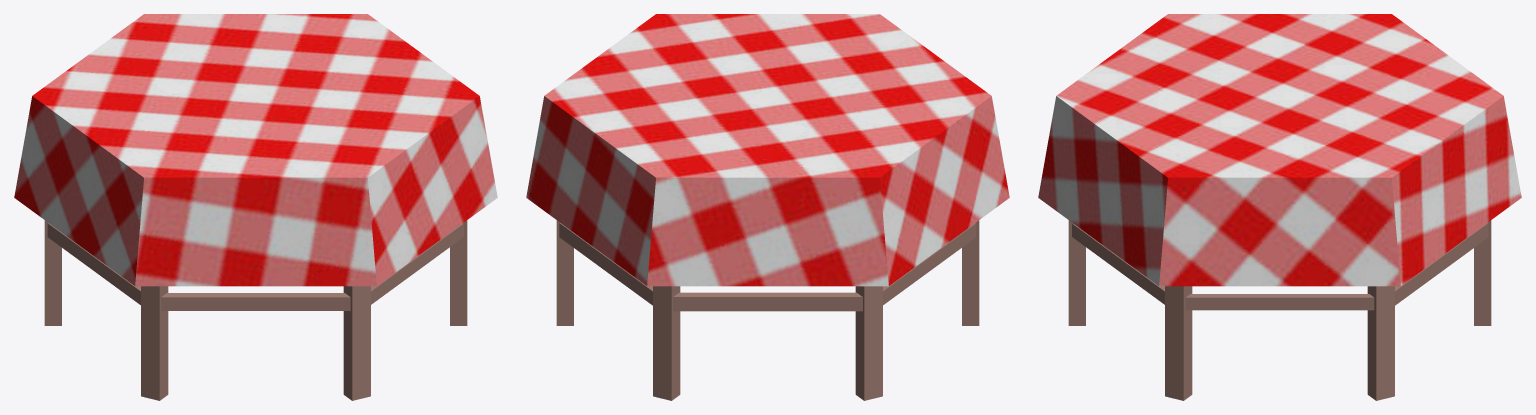
File: TABLE_FIXED.fbx
3 views of the same model, side by side, from view 1: azimuth 30°, elevation 25°; view 2: azimuth 150°, elevation 25°; view 3: azimuth 270°, elevation 25° (orthographic).
Parts seen in each view (by area): view 1: Circle.001; view 2: Circle.001; view 3: Circle.001.
Boxes of the visible parts, box(x1,y1,x2,y2) form: Circle.001: box(14, 14, 497, 400); Circle.001: box(526, 14, 1009, 400); Circle.001: box(1038, 14, 1521, 400).
Bounding box in the file's own units: 6.89 × 4.09 × 7.95.
